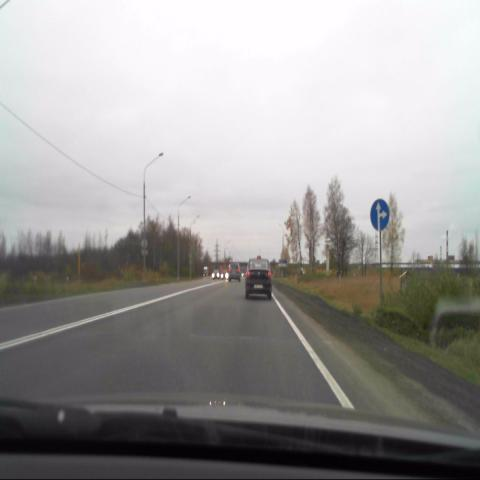4_1_4: (369, 198, 391, 233)
